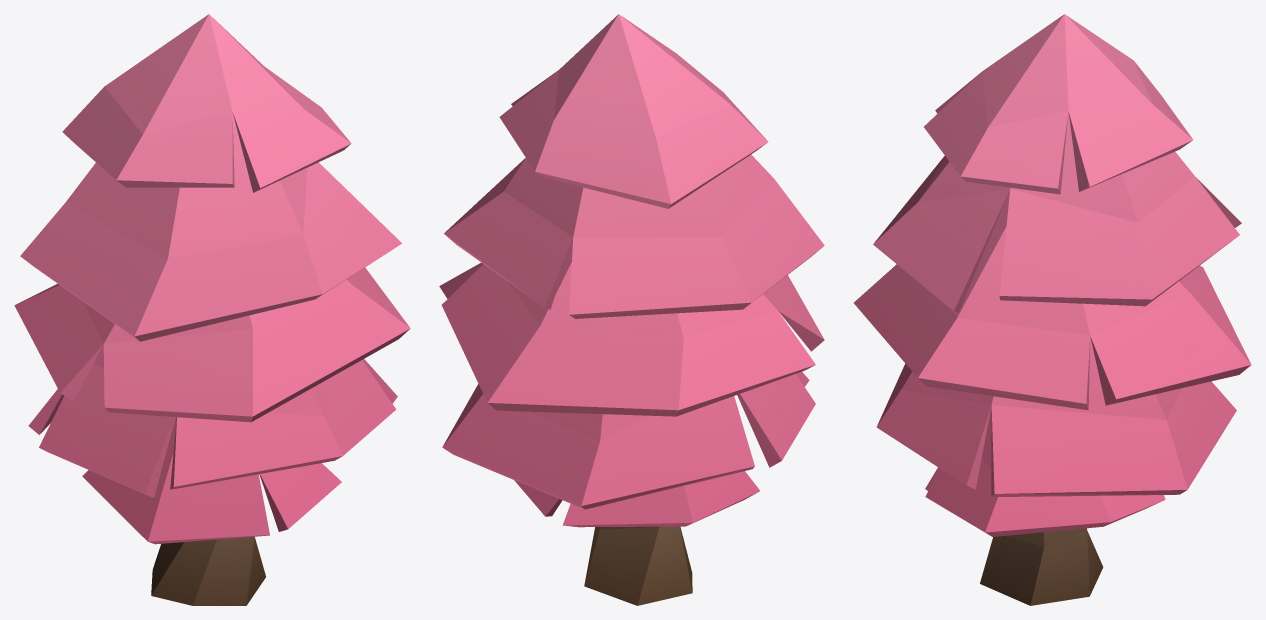
Rendered from Tree_Spruce_Pink_01.fbx.
3 renders of one model, left to right at view 1: azimuth 30°, elevation 25°; view 2: azimuth 150°, elevation 25°; view 3: azimuth 270°, elevation 25°, orthographic. The views are drawn at different scales.
Parts seen in each view (by area): view 1: Tree_Spruce_Pink; view 2: Tree_Spruce_Pink; view 3: Tree_Spruce_Pink.
Part boxes in pixels (x1=…): Tree_Spruce_Pink: x1=14, y1=14, x2=410, y2=605; Tree_Spruce_Pink: x1=439, y1=14, x2=824, y2=605; Tree_Spruce_Pink: x1=853, y1=14, x2=1251, y2=605.
Size of the model in its own units: 5.3 by 8.4 by 5.3.
